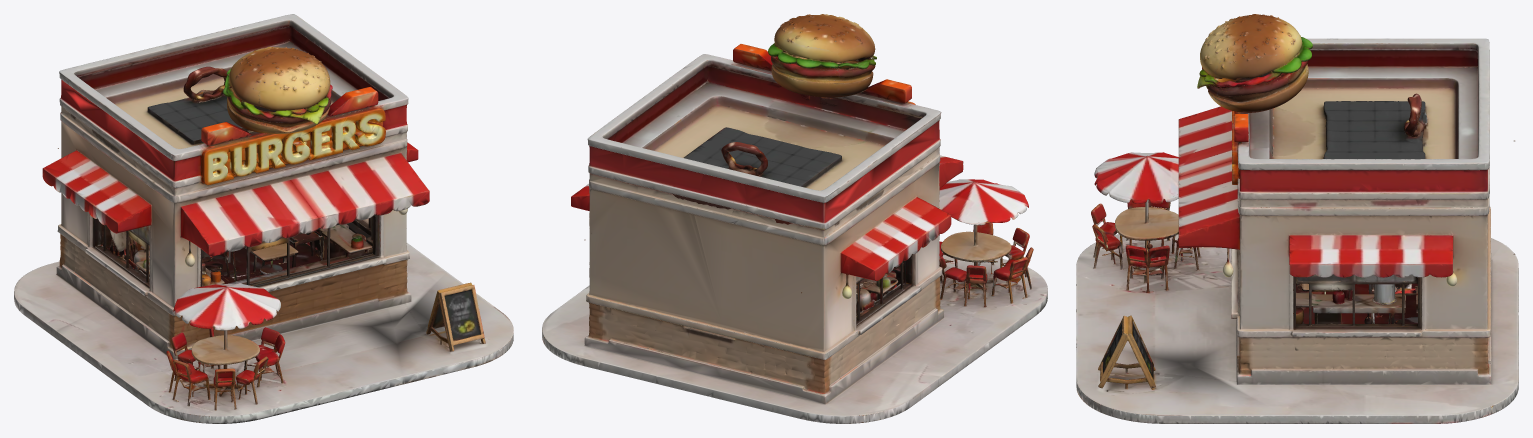
File: burgershop.final.glb
The picture shows the model from 3 angles, left to right: view 1: azimuth 30°, elevation 25°; view 2: azimuth 150°, elevation 25°; view 3: azimuth 270°, elevation 25°; orthographic projection. The views are drawn at different scales.
Size of the model in its own units: 1.9 by 1.43 by 1.9.
Materials: 1 (1 with a texture image).
